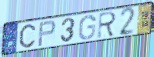2: (118, 5, 136, 39)
3: (59, 17, 76, 43)
C: (19, 23, 37, 49)
G: (77, 14, 97, 41)
P: (37, 19, 58, 48)
R: (96, 10, 118, 40)
